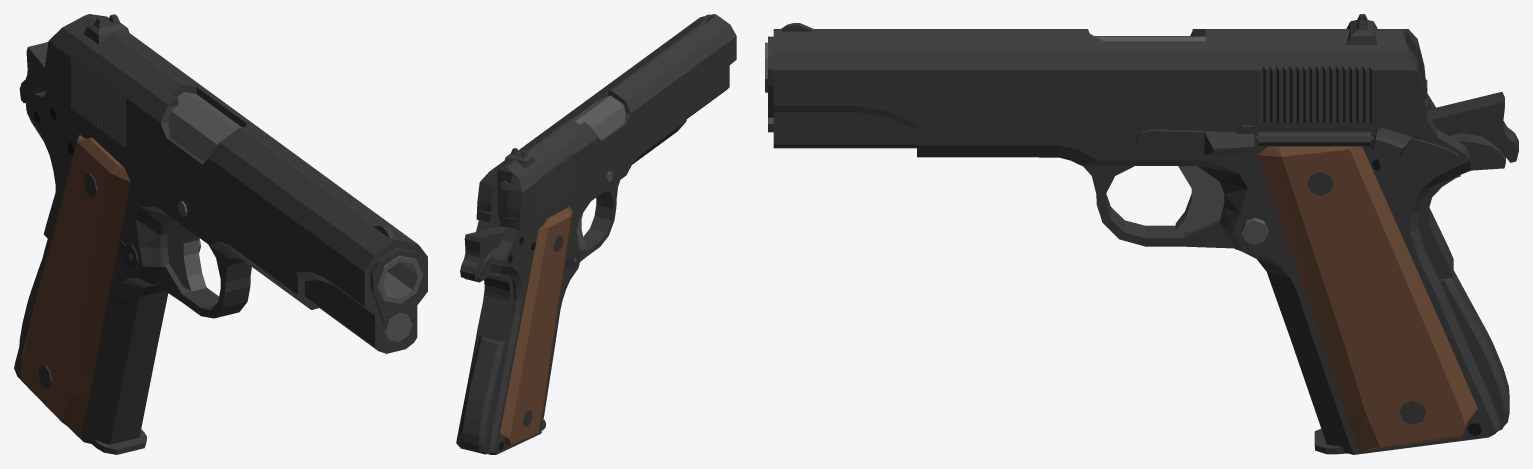
3 renders of one model, left to right at view 1: azimuth 30°, elevation 25°; view 2: azimuth 150°, elevation 25°; view 3: azimuth 270°, elevation 25°, orthographic. The views are drawn at different scales.
Visible parts, largest first — view 1: Object_6, Object_2, Object_5; view 2: Object_6, Object_2, Object_5; view 3: Object_6, Object_2, Object_5.
Boxes of the visible parts, left/top/right/bottom form: Object_6: left=14, top=14, right=427, bottom=454; Object_2: left=19, top=135, right=130, bottom=435; Object_5: left=128, top=92, right=422, bottom=341; Object_6: left=456, top=14, right=736, bottom=454; Object_2: left=500, top=207, right=573, bottom=447; Object_5: left=500, top=95, right=625, bottom=262; Object_6: left=768, top=14, right=1518, bottom=454; Object_2: left=1257, top=146, right=1477, bottom=450; Object_5: left=765, top=36, right=1268, bottom=244.
Bounding box in the file's own units: 0.0313 × 0.1586 × 0.2549.
